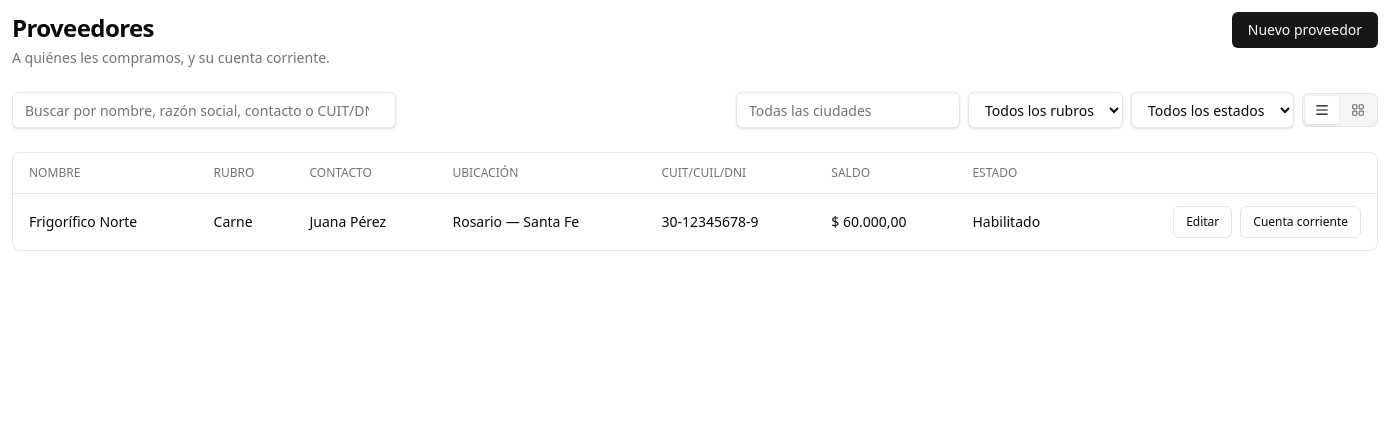
Test: SuppliersScreen › switches to cards and remembers the preference
Check: the text "Frigorífico Norte" is shown, box [13,194,198,250]
Click the radio button named "vista de tarjetas": (1358, 110) [1341,96,1375,124]
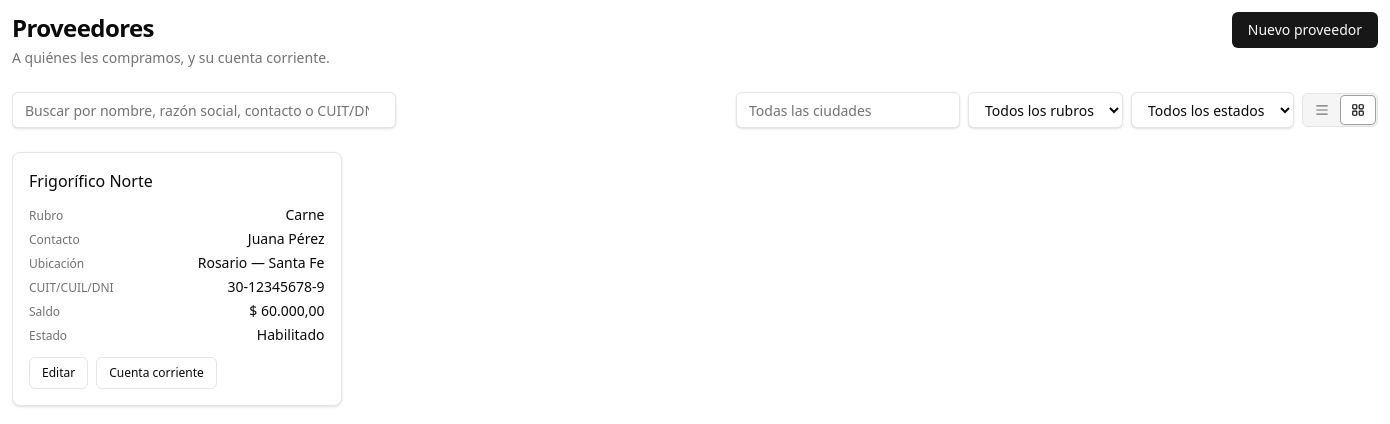
Check: the number of elements with test id "data-view-card" is 1, box [12,152,342,406]
